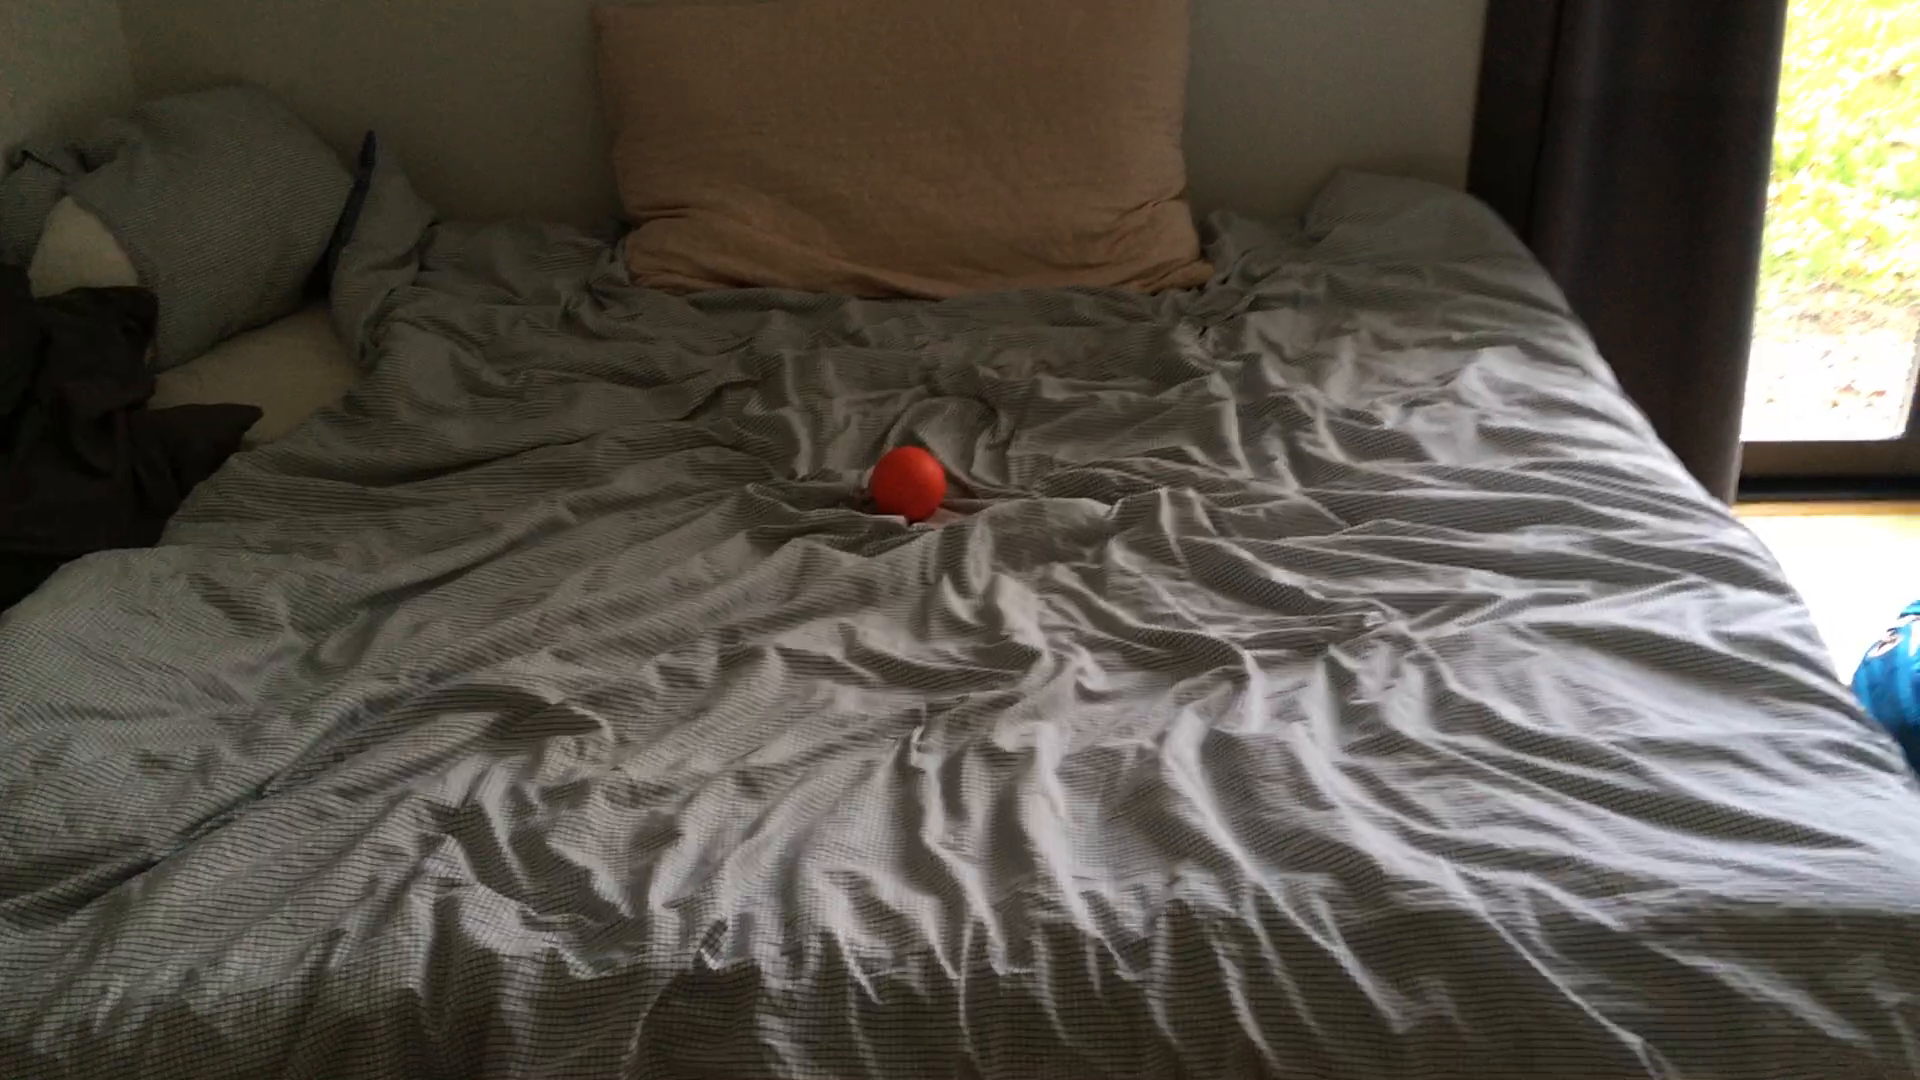Ball: (861, 440, 949, 520)
